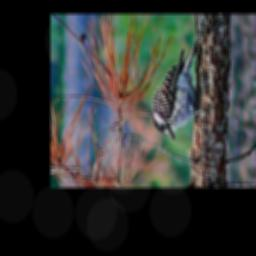Woodpecker: (143, 37, 214, 145)
